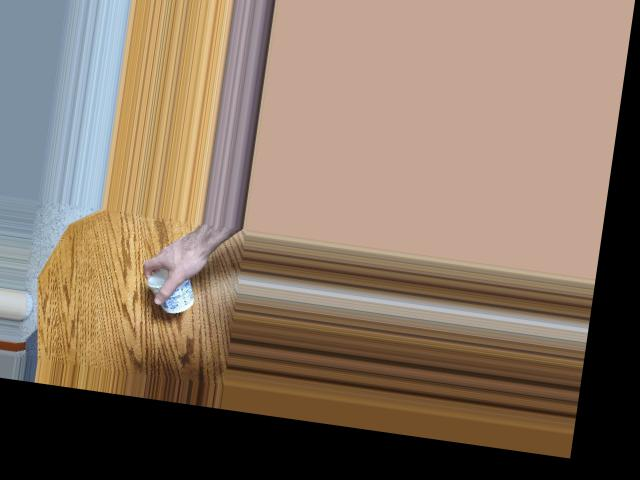cotage: (145, 263, 200, 315)
